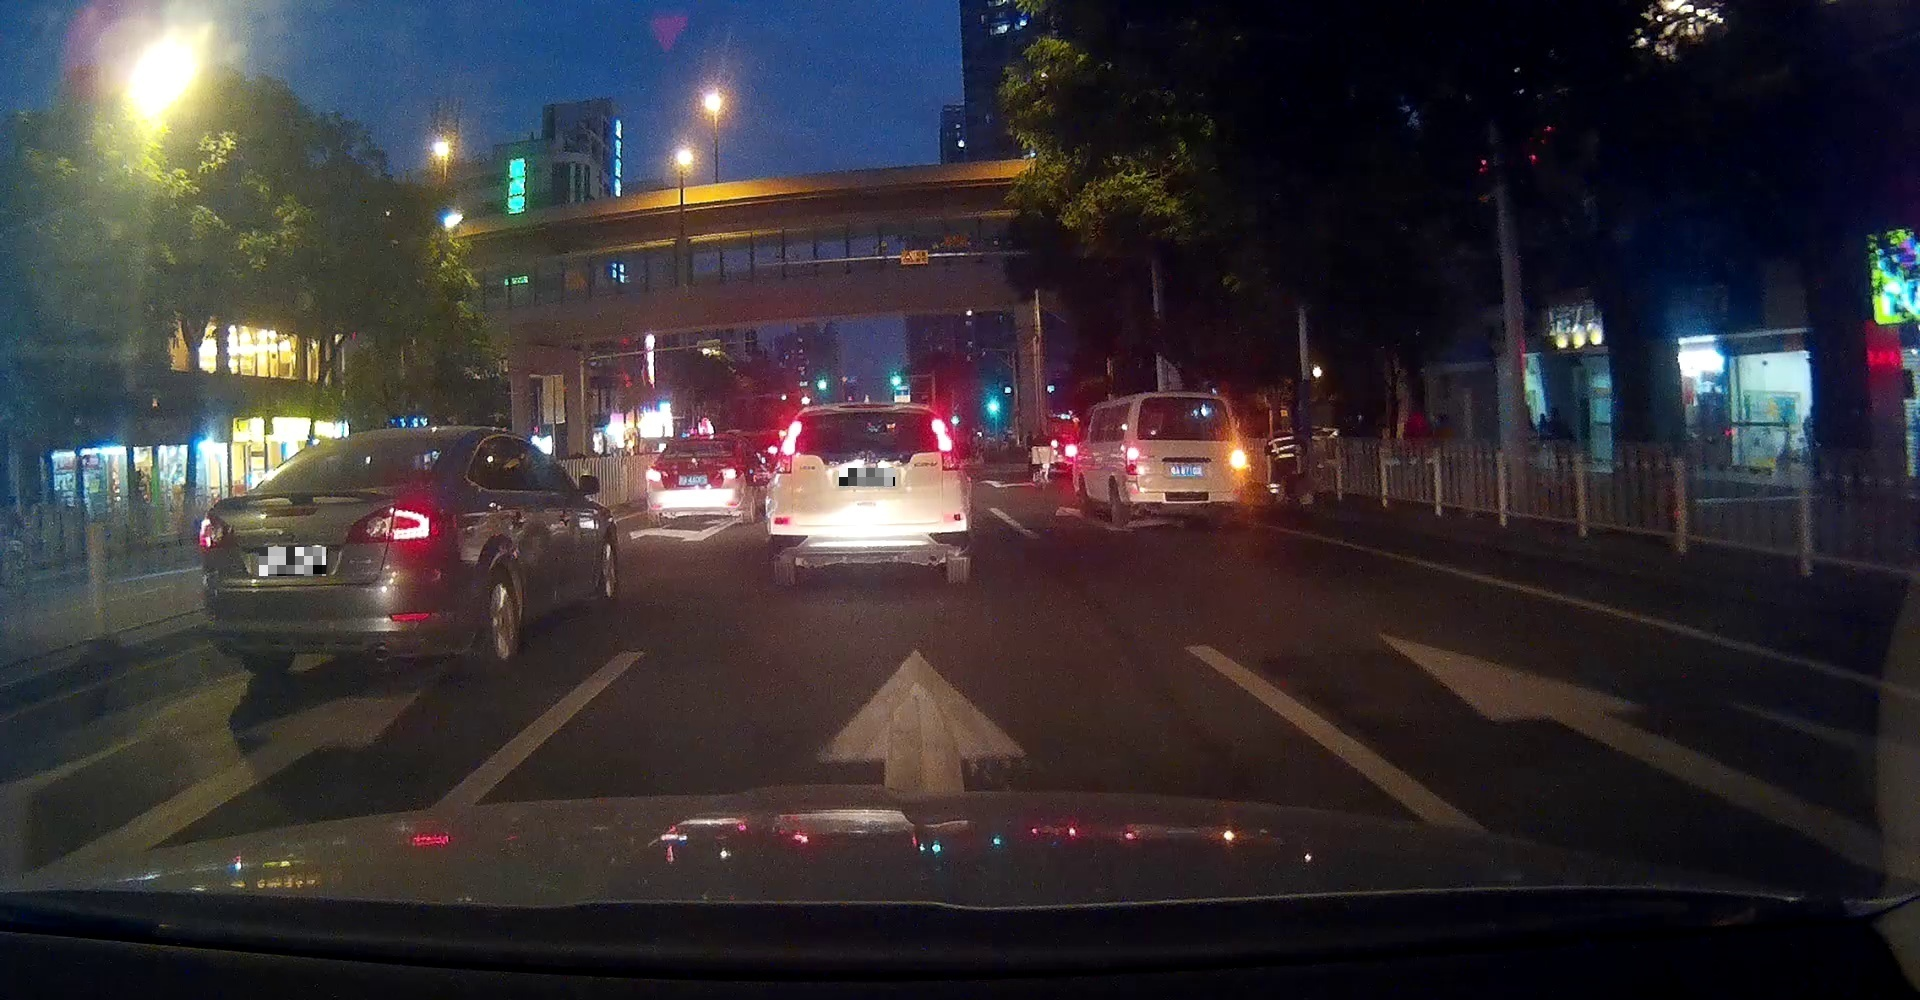L_light: (775, 420, 800, 475), (198, 513, 234, 548), (1125, 445, 1139, 473), (645, 467, 663, 482)
R_light: (345, 499, 442, 544), (930, 418, 960, 471), (1230, 448, 1244, 473), (721, 466, 737, 480)
T_light: (362, 439, 399, 449), (856, 411, 885, 420), (1177, 397, 1200, 404), (695, 440, 710, 445)
night-no: (198, 426, 455, 678), (764, 402, 971, 582), (645, 433, 740, 523)
night-right: (1124, 392, 1246, 527)
plate_1: (259, 547, 326, 576)
plate_2: (839, 468, 895, 486)
